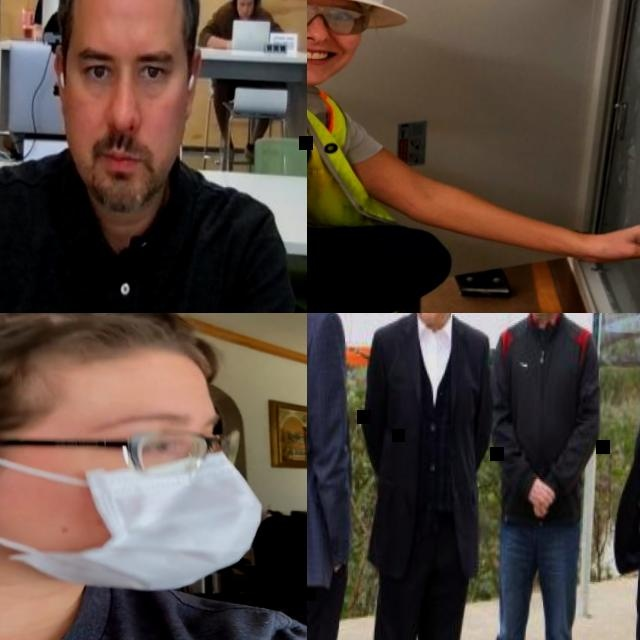Mask: (0, 437, 264, 599)
NO-Hardhat: (0, 313, 239, 429)
NO-Mask: (75, 131, 168, 209), (307, 40, 343, 84), (414, 313, 448, 322), (237, 2, 251, 14)
NO-Safety Vest: (0, 178, 234, 313), (377, 319, 483, 567), (0, 569, 307, 640), (501, 318, 586, 514), (307, 313, 337, 586), (219, 1, 261, 38)
Person: (307, 0, 640, 313), (0, 313, 307, 640), (0, 0, 307, 313), (351, 313, 497, 640), (479, 313, 607, 640), (307, 313, 359, 640), (195, 0, 286, 160), (31, 0, 73, 21)
Safety Vest: (307, 64, 434, 313)
